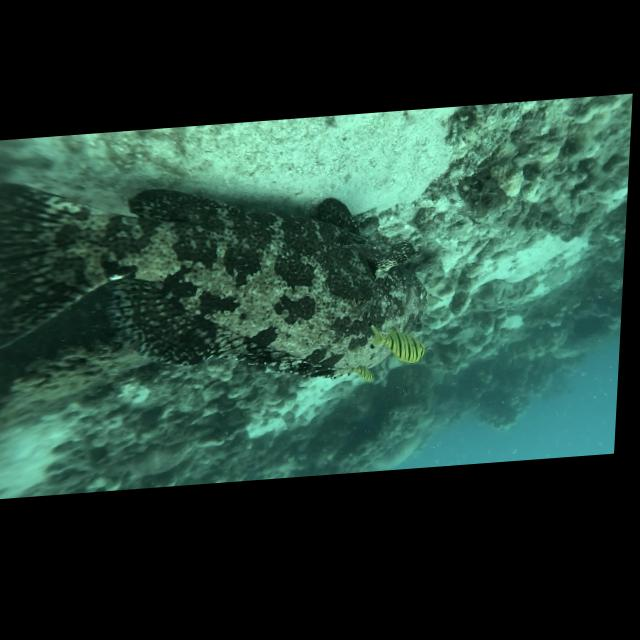Groupers: (0, 152, 434, 405)
